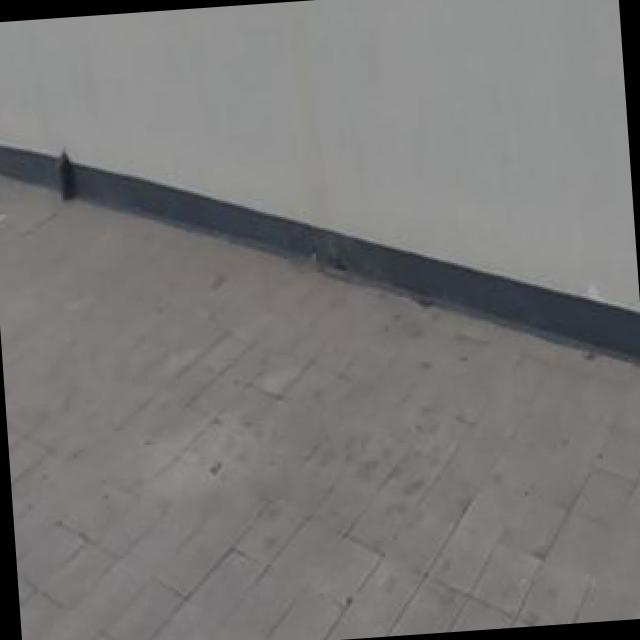Guns: (601, 0, 619, 13)
